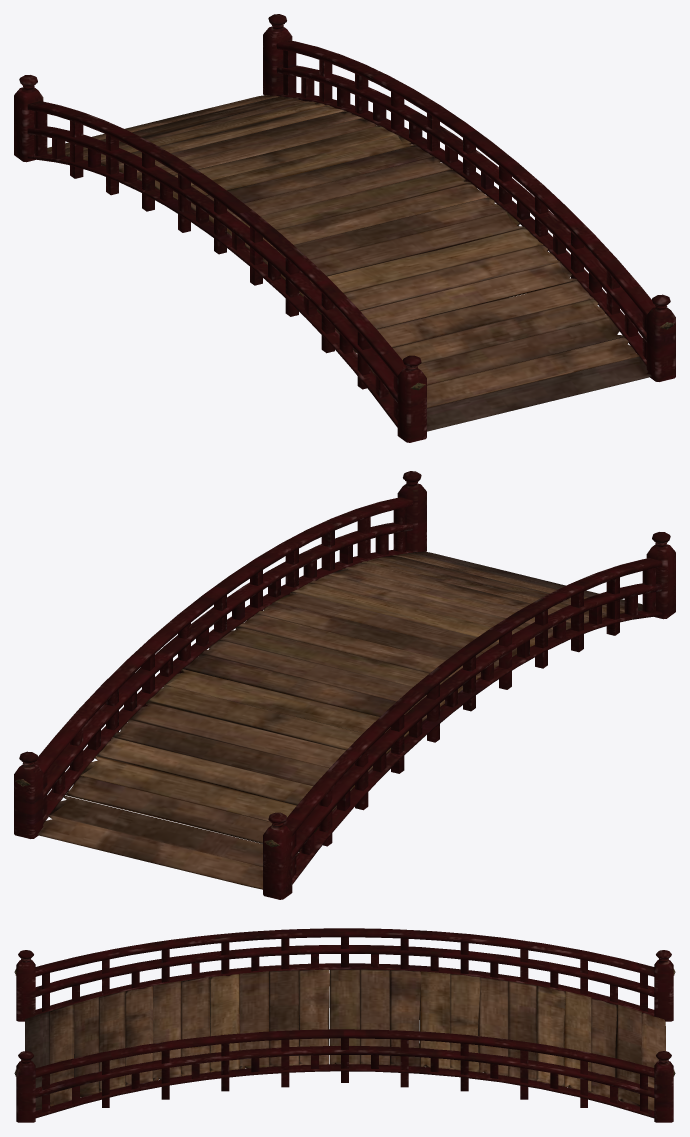
Rendered from jp_bridge.glb.
3 renders of one model, top to bottom at view 1: azimuth 30°, elevation 25°; view 2: azimuth 150°, elevation 25°; view 3: azimuth 270°, elevation 25°, orthographic. The views are drawn at different scales.
Visible parts, largest first — view 1: jp_bridge; view 2: jp_bridge; view 3: jp_bridge.
Boxes of the visible parts, x1=… form: jp_bridge: x1=14, y1=14, x2=675, y2=442; jp_bridge: x1=14, y1=471, x2=675, y2=899; jp_bridge: x1=14, y1=928, x2=675, y2=1122.
Bounding box in the file's own units: 3.52 × 1.31 × 9.
2 materials, 2 textured.
